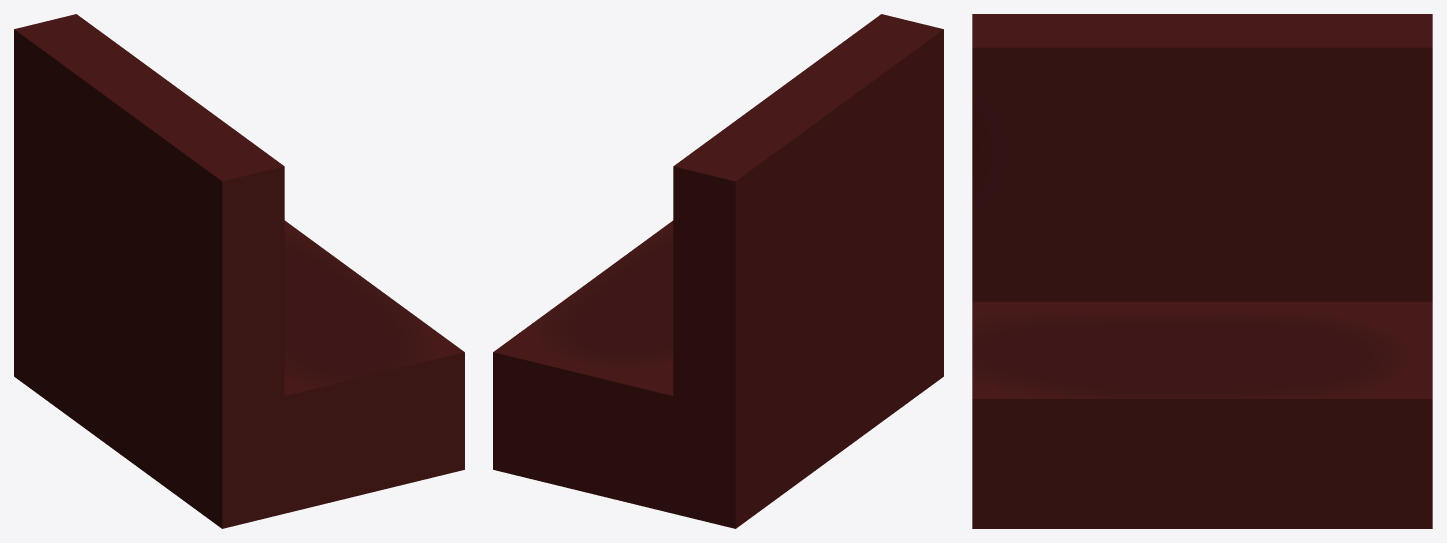
Rendered from seat.fbx.
3 renders of one model, left to right at view 1: azimuth 30°, elevation 25°; view 2: azimuth 150°, elevation 25°; view 3: azimuth 270°, elevation 25°, orthographic. The views are drawn at different scales.
Parts seen in each view (by area): view 1: Cube; view 2: Cube; view 3: Cube.
Boxes of the visible parts, x1,y1,x2,y2 form: Cube: (14, 14, 464, 528); Cube: (493, 14, 943, 528); Cube: (972, 14, 1432, 528).
Bounding box in the file's own units: 135 × 184 × 200.
1 material, 1 textured.
